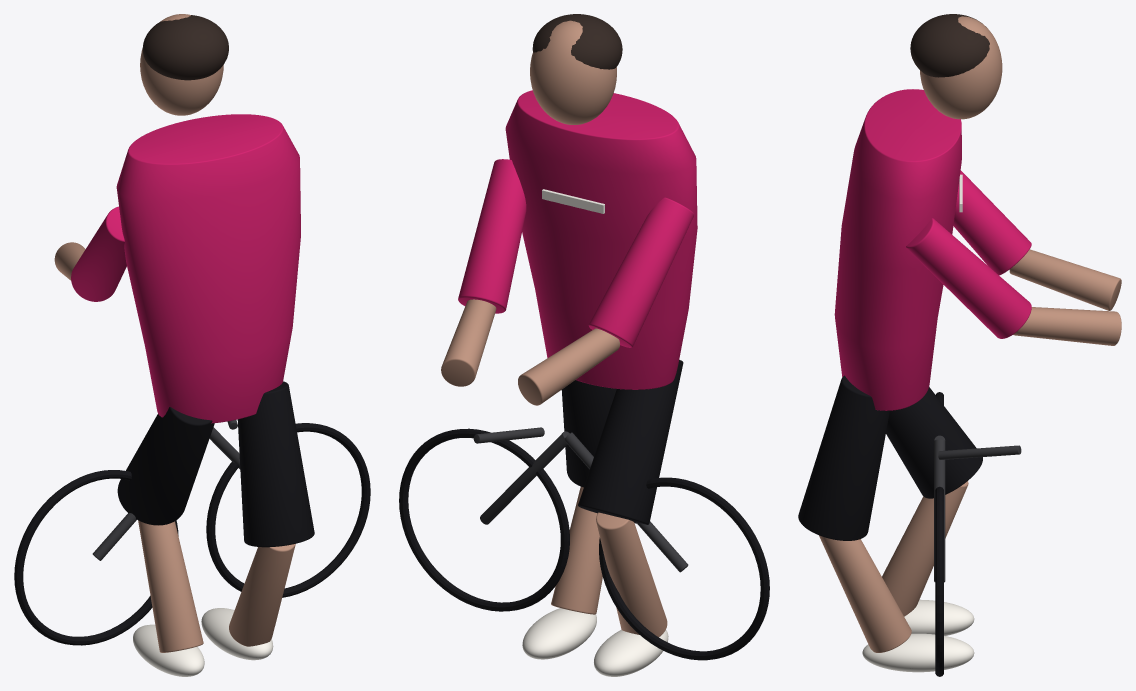
Rendered from athlete-aero.glb.
3 views of the same model, side by side, from view 1: azimuth 30°, elevation 25°; view 2: azimuth 150°, elevation 25°; view 3: azimuth 270°, elevation 25° (orthographic). The views are drawn at different scales.
Visible parts, largest first — view 1: GARMENT_TORSO, GARMENT_BIB_LEG_R, GARMENT_BIB_LEG_L, BODY_CALF_L, BODY_HAIR, BODY_CALF_R, BIKE_WHEEL, BIKE_WHEEL.001, GARMENT_SLEEVE_L, BODY_HEAD, SHOE_L, SHOE_R (+2 smaller); view 2: GARMENT_TORSO, GARMENT_BIB_LEG_L, GARMENT_SLEEVE_L, GARMENT_SLEEVE_R, BODY_HEAD, BIKE_WHEEL, BODY_CALF_L, BIKE_WHEEL.001, BODY_CALF_R, BODY_FOREARM_L, GARMENT_BIB_LEG_R, BODY_FOREARM_R (+7 smaller); view 3: GARMENT_TORSO, GARMENT_BIB_LEG_R, GARMENT_SLEEVE_R, GARMENT_BIB_LEG_L, BODY_CALF_R, BODY_CALF_L, GARMENT_SLEEVE_L, BODY_HEAD, BODY_HAIR, BODY_FOREARM_L, BODY_FOREARM_R, SHOE_R (+4 smaller).
Boxes of the visible parts, box(x1,y1,x2,y2) form: GARMENT_TORSO: box(116, 114, 300, 423); GARMENT_BIB_LEG_R: box(237, 381, 314, 547); GARMENT_BIB_LEG_L: box(117, 407, 214, 525); BODY_CALF_L: box(138, 520, 203, 652); BODY_HAIR: box(142, 15, 228, 80); BODY_CALF_R: box(229, 543, 295, 646); BIKE_WHEEL: box(206, 423, 370, 597); BIKE_WHEEL.001: box(14, 470, 178, 645); GARMENT_SLEEVE_L: box(71, 206, 126, 301); BODY_HEAD: box(140, 14, 223, 115); SHOE_L: box(133, 624, 204, 676); SHOE_R: box(201, 608, 273, 660); GARMENT_TORSO: box(505, 90, 697, 389); GARMENT_BIB_LEG_L: box(578, 360, 683, 524); GARMENT_SLEEVE_L: box(588, 197, 694, 347); GARMENT_SLEEVE_R: box(458, 159, 526, 313); BODY_HEAD: box(530, 20, 616, 124); BIKE_WHEEL: box(399, 428, 569, 611); BODY_CALF_L: box(596, 512, 667, 637); BIKE_WHEEL.001: box(599, 477, 769, 660); BODY_CALF_R: box(551, 486, 602, 614); BODY_FOREARM_L: box(518, 328, 619, 405); GARMENT_BIB_LEG_R: box(561, 380, 616, 487); BODY_FOREARM_R: box(441, 299, 496, 386); GARMENT_TORSO: box(834, 89, 961, 410); GARMENT_BIB_LEG_R: box(798, 375, 889, 540); GARMENT_SLEEVE_R: box(906, 218, 1031, 338); GARMENT_BIB_LEG_L: box(886, 387, 982, 498); BODY_CALF_R: box(819, 535, 911, 652); BODY_CALF_L: box(882, 481, 968, 616); GARMENT_SLEEVE_L: box(953, 170, 1031, 275); BODY_HEAD: box(920, 16, 1002, 119); BODY_HAIR: box(910, 14, 989, 77); BODY_FOREARM_L: box(1009, 249, 1121, 310); BODY_FOREARM_R: box(1013, 307, 1121, 345); SHOE_R: box(862, 633, 974, 672).
Size of the model in its own units: 1.55 by 2.62 by 1.21.
